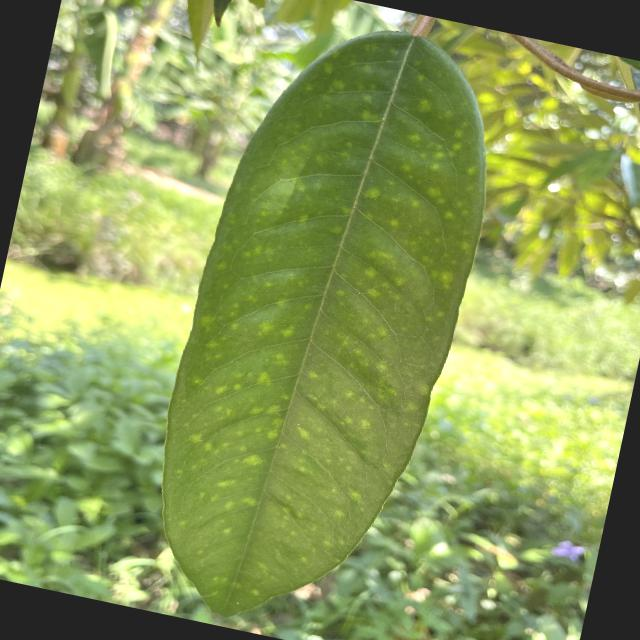Leaf Spot: (110, 0, 525, 639)
